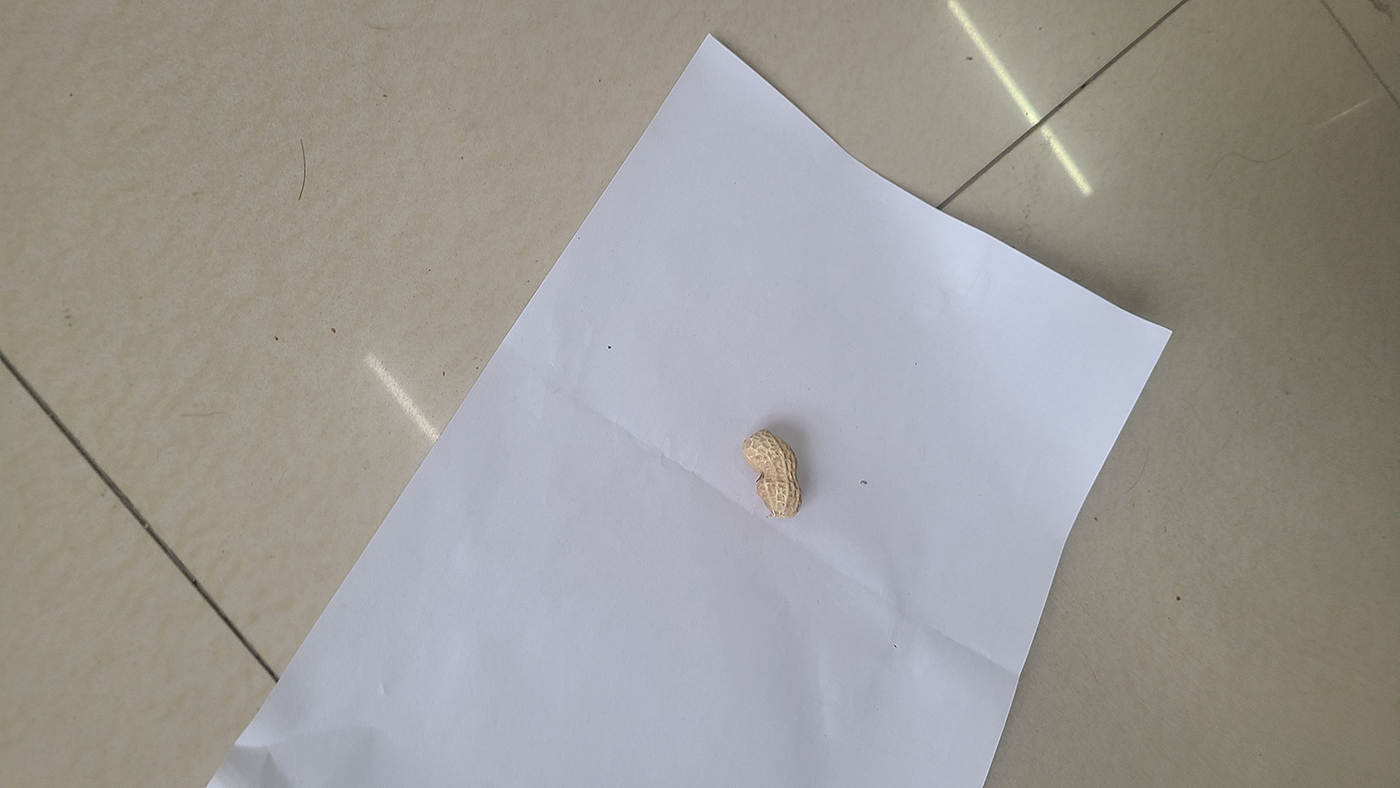h: (741, 429, 804, 517)
